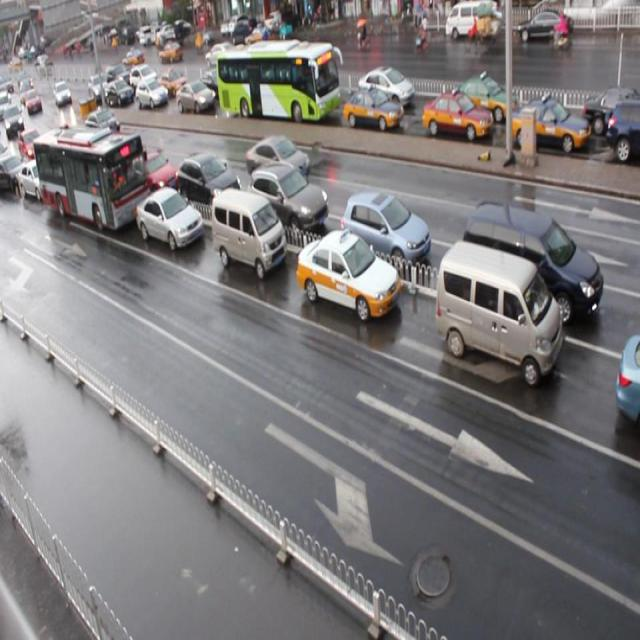car: (298, 228, 402, 322), (341, 191, 432, 275), (249, 161, 330, 234), (512, 98, 592, 156), (137, 186, 204, 250), (178, 151, 244, 212), (442, 73, 517, 124), (424, 92, 494, 140), (580, 85, 640, 137), (245, 138, 309, 186), (344, 84, 404, 133), (356, 64, 413, 110), (614, 333, 640, 423), (136, 146, 180, 194), (606, 97, 640, 159), (20, 158, 58, 202), (290, 66, 332, 102), (84, 133, 122, 172), (175, 82, 216, 116), (198, 69, 234, 105), (1, 152, 30, 194), (84, 108, 120, 140), (18, 128, 47, 160), (136, 79, 168, 107), (129, 64, 159, 92), (105, 78, 134, 106), (161, 70, 187, 94)
truck: (437, 240, 562, 388), (464, 198, 604, 328), (212, 188, 288, 278)
van: (35, 126, 154, 234), (216, 44, 340, 123)
